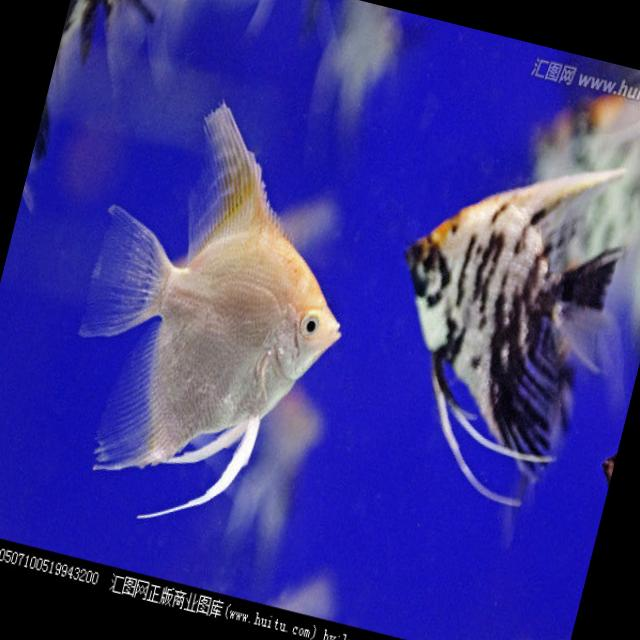AngelFish: (33, 78, 391, 556), (349, 128, 635, 521)
